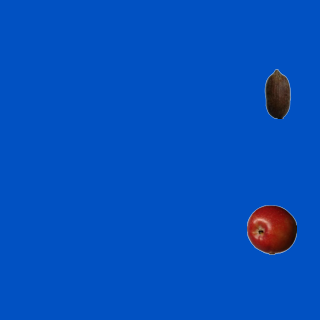Apple Braeburn: (246, 204, 296, 254)
Nut Pecan: (252, 68, 302, 118)
